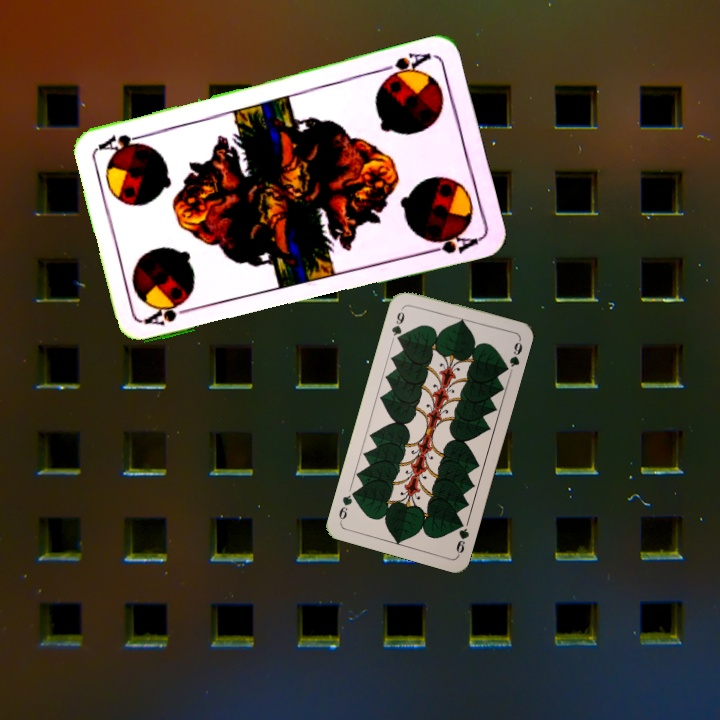G9: (452, 516, 472, 558), (388, 303, 407, 344)
SA: (376, 48, 434, 83), (141, 299, 200, 329)
